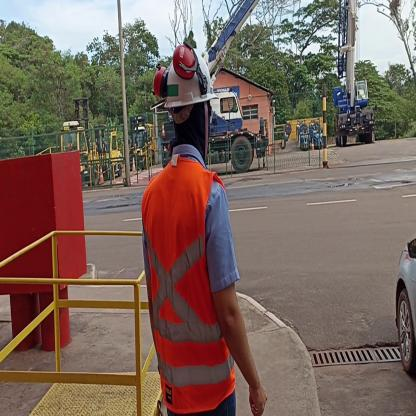Balaclava: (173, 101, 212, 155)
Capacete: (162, 42, 219, 104)
colete: (145, 180, 231, 402)
